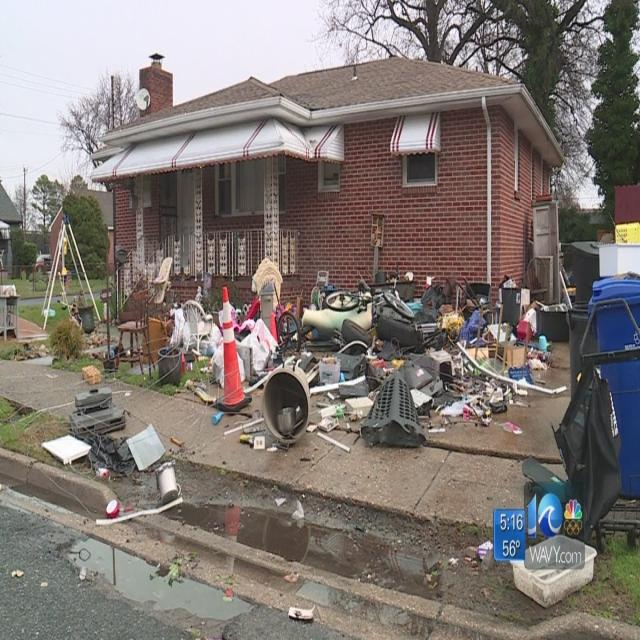House: (89, 52, 568, 326), (48, 191, 114, 278), (0, 182, 24, 280)
